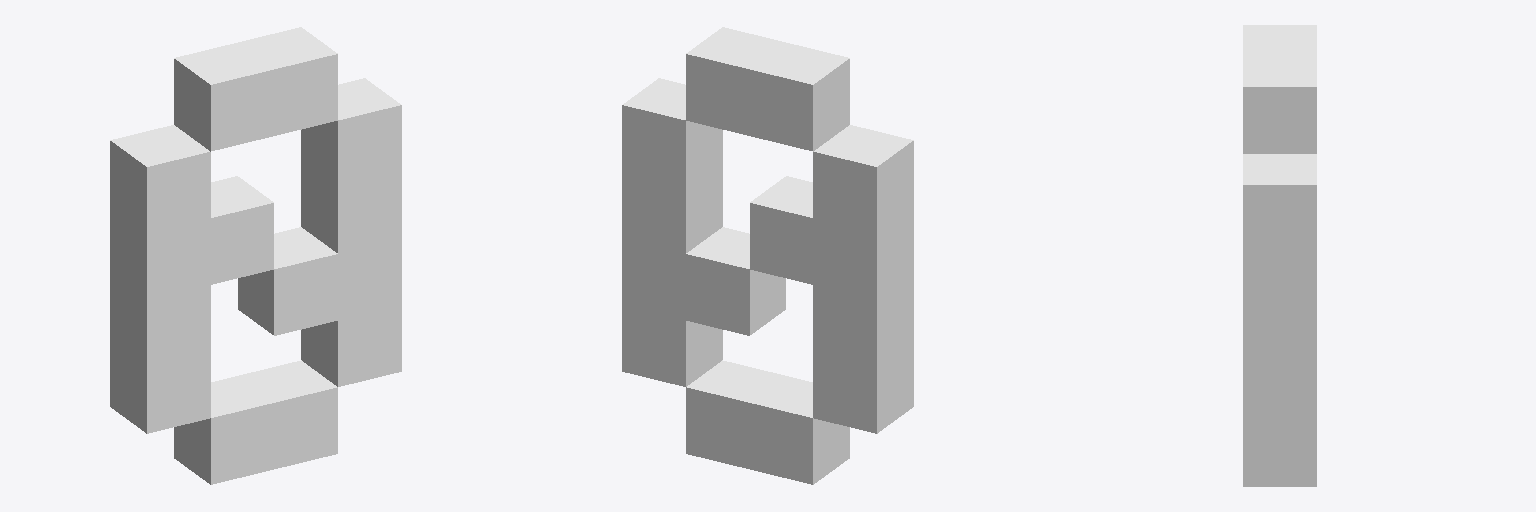
The model's file is GORODITH_green0.obj.
3 renders of one model, left to right at view 1: azimuth 30°, elevation 25°; view 2: azimuth 150°, elevation 25°; view 3: azimuth 270°, elevation 25°, orthographic.
Parts seen in each view (by area): view 1: object 1; view 2: object 1; view 3: object 1.
Boxes of the visible parts, box(x1,y1,x2,y2) form: object 1: box(110, 27, 401, 484); object 1: box(622, 27, 913, 484); object 1: box(1243, 25, 1316, 486).
Size of the model in its own units: 0.4 by 0.6 by 0.1.